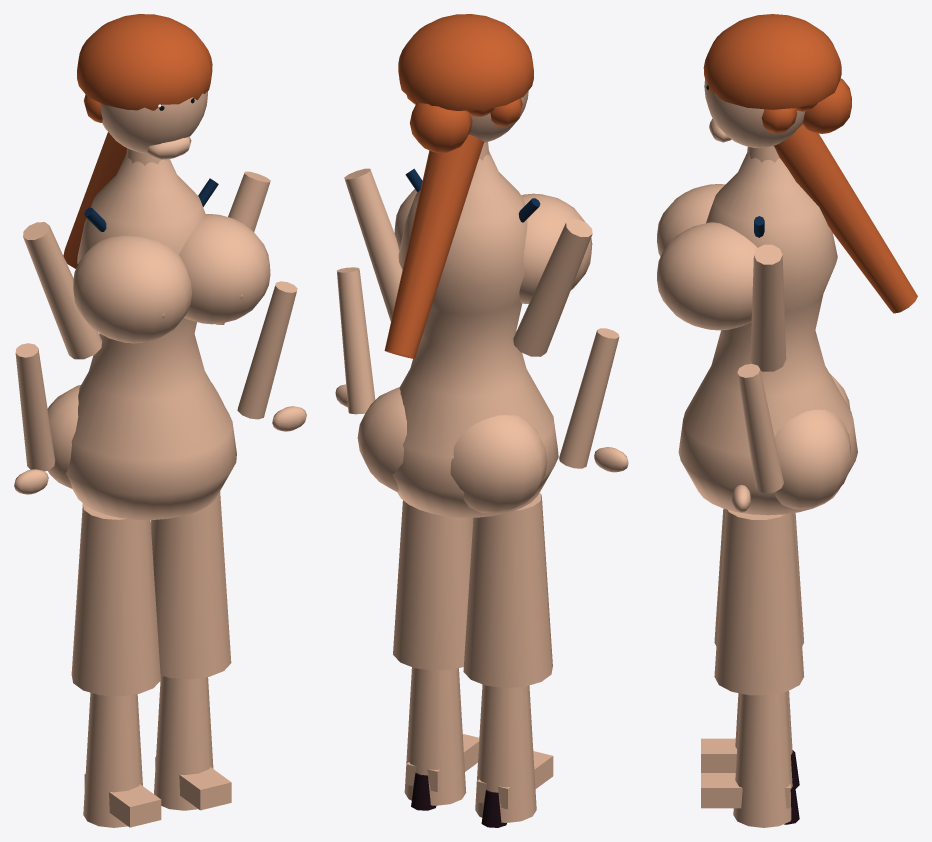
File: sienna.glb
3 renders of one model, left to right at view 1: azimuth 30°, elevation 25°; view 2: azimuth 150°, elevation 25°; view 3: azimuth 270°, elevation 25°, orthographic.
Visible parts, largest first — view 1: SIENNA, torso, hairCap, breastL, breastR, armL, head, hairTail, armR; view 2: SIENNA, torso, hairCap, hairTail, armL, armR, breastL, head; view 3: SIENNA, torso, hairCap, breastR, hairTail, armR, head, breastL.
Part boxes in pixels (box(x1,y1,x2,y2)): SIENNA: box(14, 94, 306, 827); torso: box(66, 154, 236, 519); hairCap: box(77, 14, 212, 110); breastL: box(73, 235, 192, 343); breastR: box(179, 214, 270, 324); armL: box(23, 222, 101, 359); head: box(100, 91, 207, 153); hairTail: box(63, 132, 126, 268); armR: box(215, 171, 270, 324); SIENNA: box(335, 95, 628, 827); torso: box(392, 151, 558, 517); hairCap: box(398, 14, 533, 110); hairTail: box(384, 134, 483, 358); armL: box(513, 219, 592, 356); armR: box(344, 168, 402, 321); breastL: box(519, 193, 592, 303); head: box(469, 91, 528, 142); SIENNA: box(701, 78, 851, 827); torso: box(678, 153, 857, 515); hairCap: box(703, 14, 841, 109); breastR: box(657, 222, 757, 330); hairTail: box(774, 124, 917, 313); armR: box(750, 244, 786, 371); head: box(704, 79, 805, 148); breastL: box(657, 184, 725, 256).
Size of the model in its own units: 0.748 by 1.92 by 0.5816.
